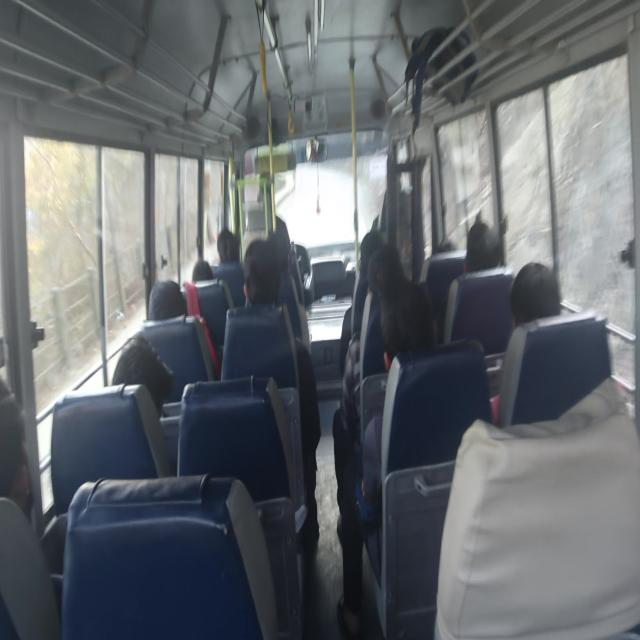person: (336, 278, 436, 635), (221, 237, 321, 544), (360, 280, 436, 503), (488, 260, 561, 423), (443, 220, 502, 343), (111, 333, 174, 418), (0, 393, 33, 520), (509, 260, 561, 330), (243, 238, 281, 307), (463, 220, 501, 274), (147, 278, 188, 320), (217, 228, 240, 264), (192, 258, 214, 282)
